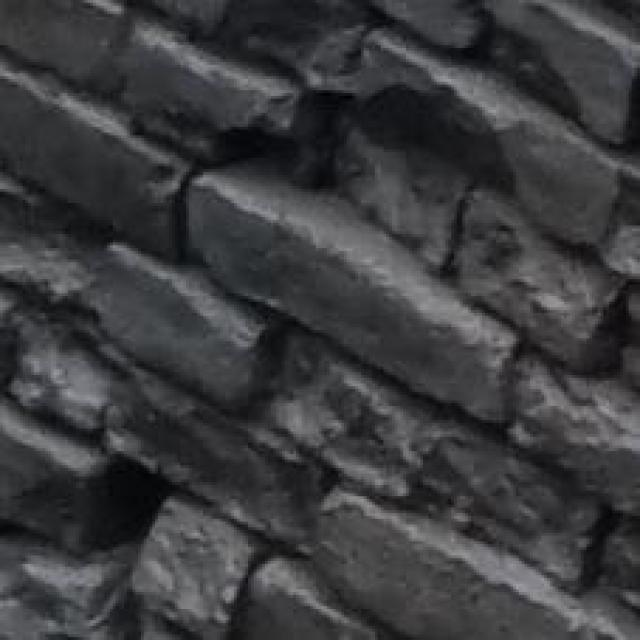Crack: (150, 0, 609, 321)
